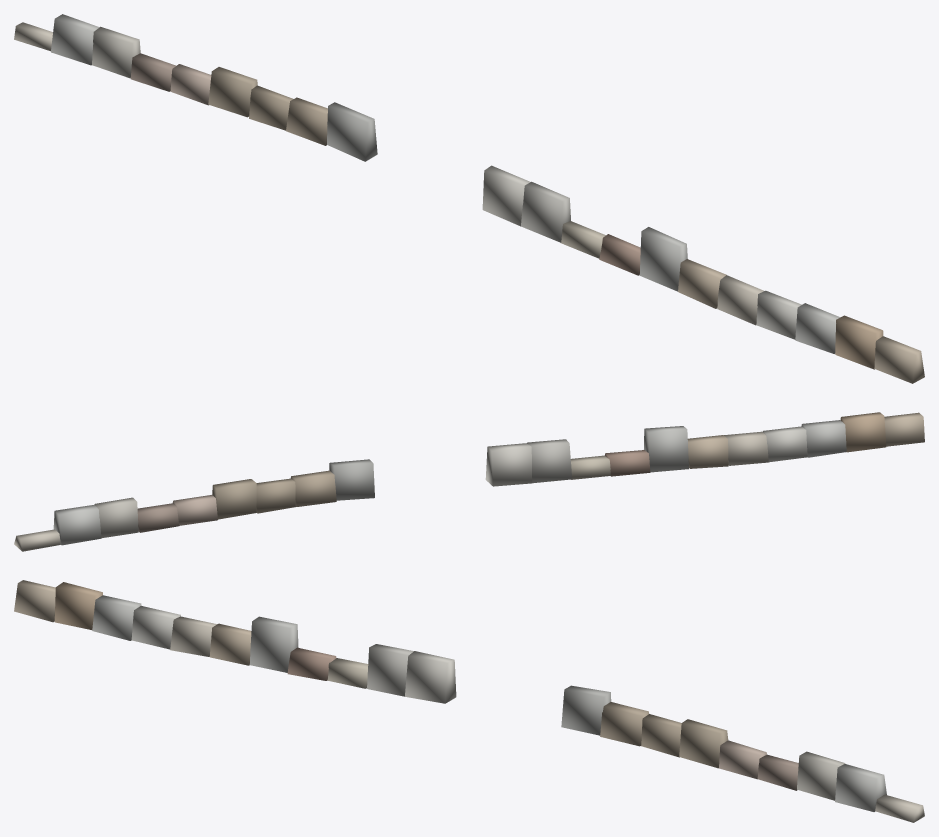
Rendered from farm_-1_-2_far.glb.
3 renders of one model, top to bottom at view 1: azimuth 90°, elevation 25°; view 2: azimuth 150°, elevation 25°; view 3: azimuth 270°, elevation 25°, orthographic. The views are drawn at different scales.
Parts seen in each view (by area): view 1: geometry_0; view 2: geometry_0; view 3: geometry_0.
Boxes of the visible parts, left/top/right/bottom form: geometry_0: left=14, top=14, right=924, bottom=383; geometry_0: left=14, top=412, right=924, bottom=551; geometry_0: left=14, top=580, right=924, bottom=822.
Bounding box in the file's own units: 21.31 × 3.43 × 28.79.
